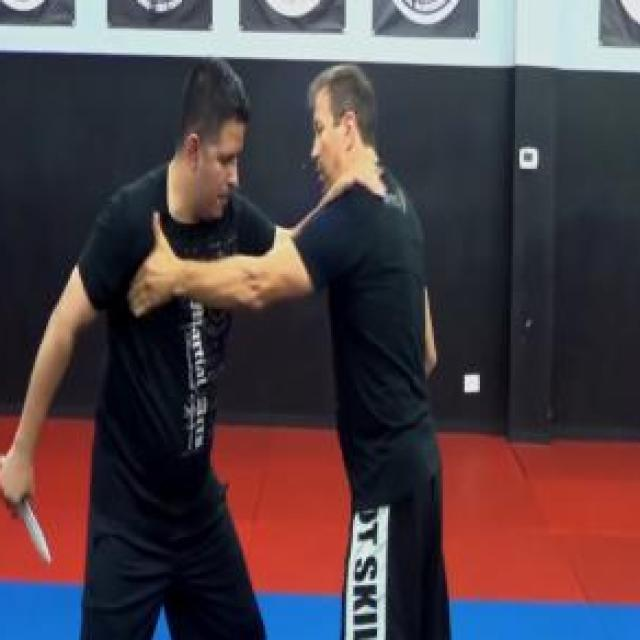knife: (0, 447, 50, 574)
